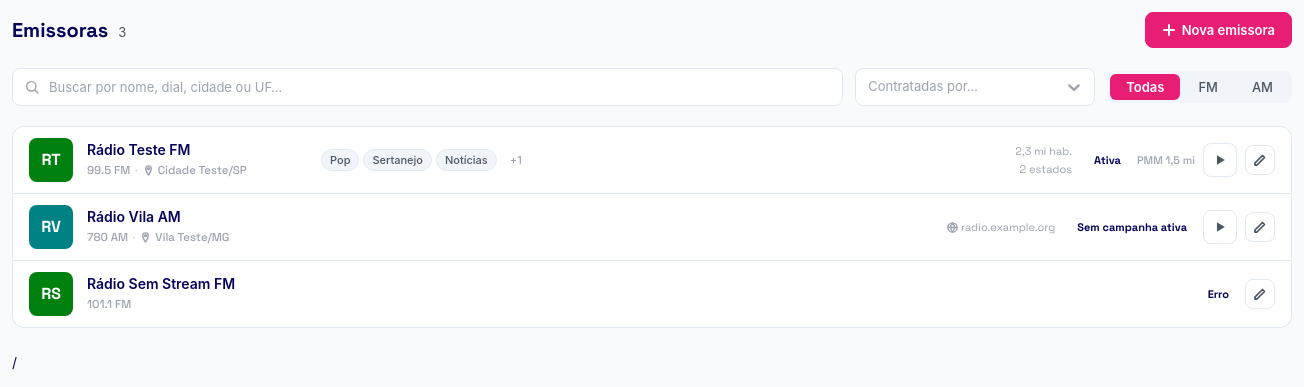
it: StationsPage › busca sem resultado mostra a mensagem com o termo
This screenshot has width=1304, height=387.
Check: the text "Rádio Teste FM" is shown, box [87,142,190,158]
Type "zzz" into the dropdown with placeholder "Buscar por nome, dial, cidade ou UF…".
click(428, 87); type("zzz")  # box [12,68,843,106]
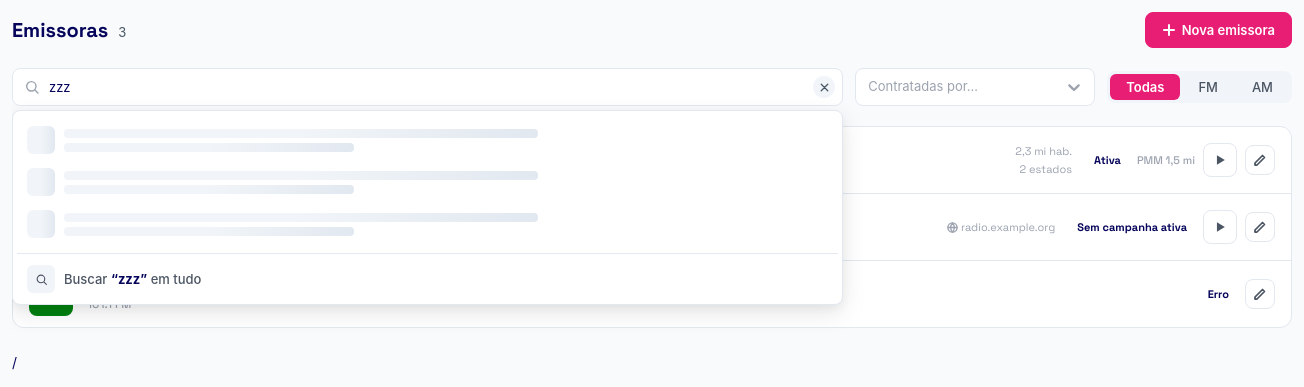
Check: the text "em tudo" is shown, box [147,271,202,287]
Press Enter in the dropdown named "Buscar emissora", box [12,68,843,106]
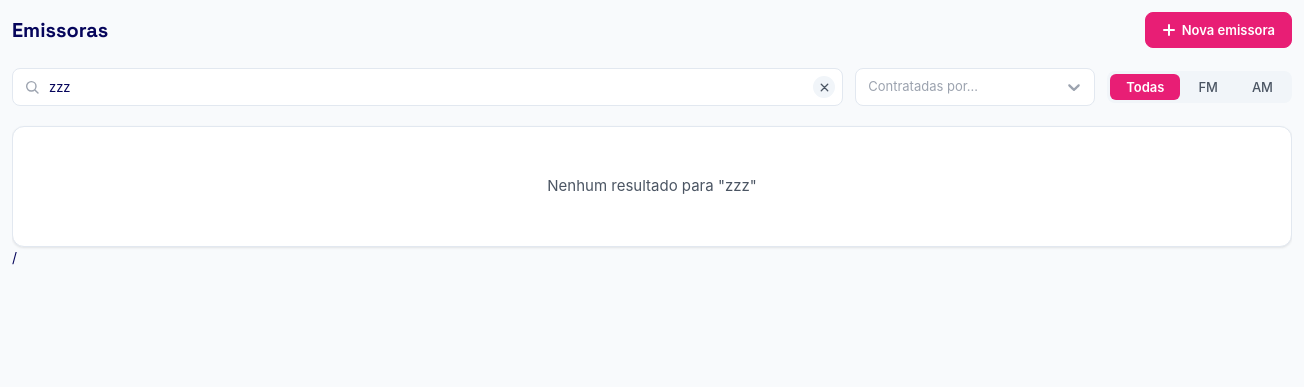
Check: the text "Nenhum resultado para \"zzz\"" is shown, box [547,176,757,195]
